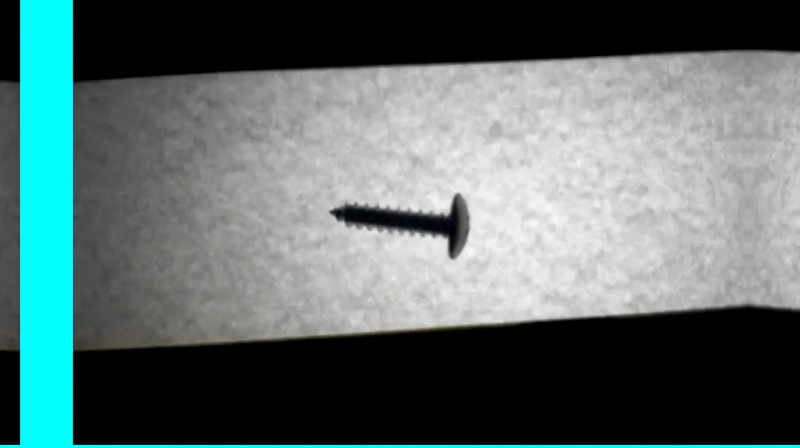S003: (325, 185, 472, 261)
